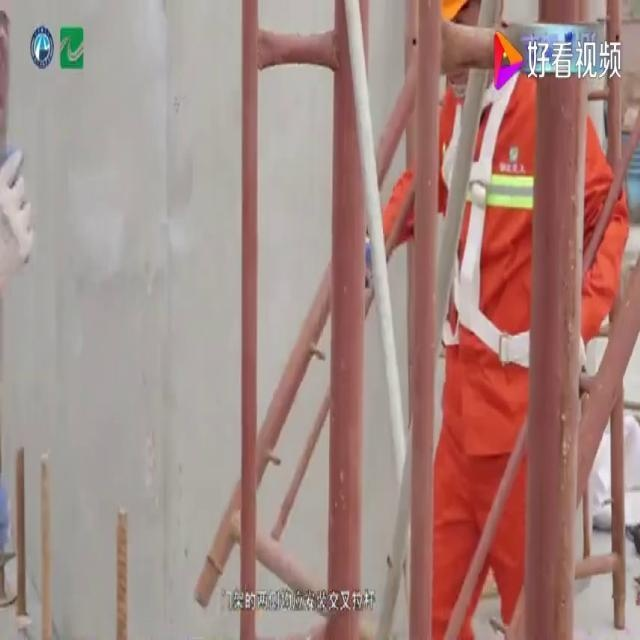Arnes_seguridad: (437, 73, 534, 370)
